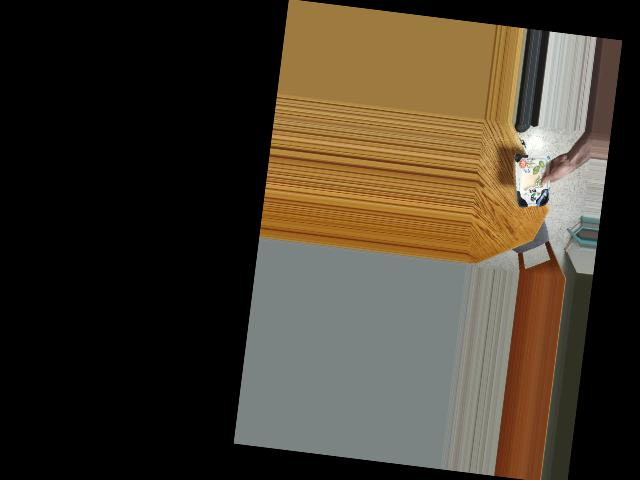cheese: (515, 156, 551, 209)
